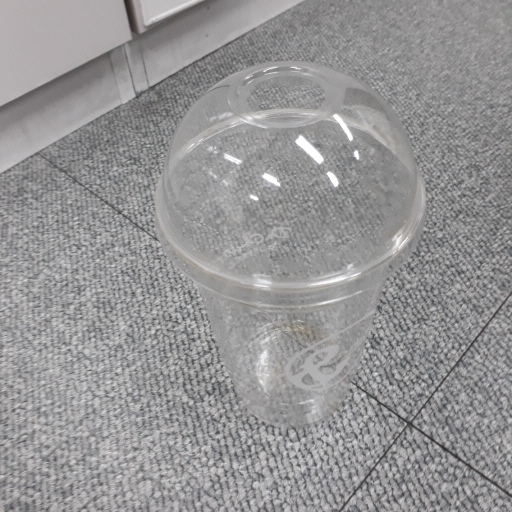Plastic_2: (145, 60, 428, 425)
